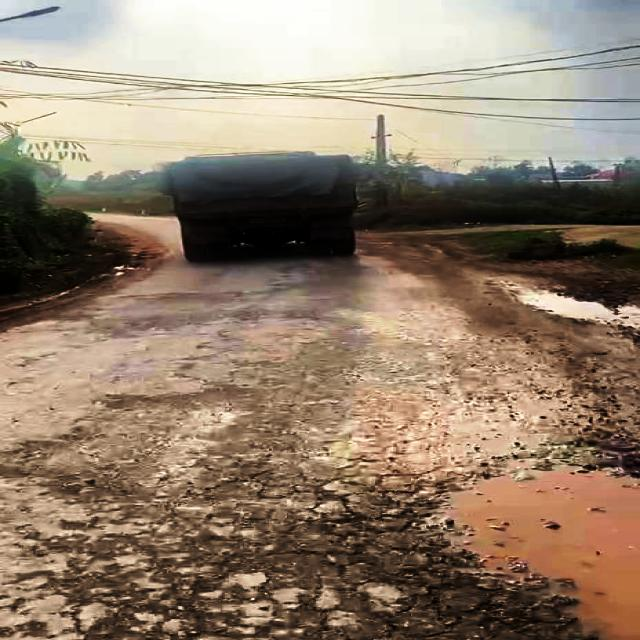pothole: (404, 455, 640, 640)
